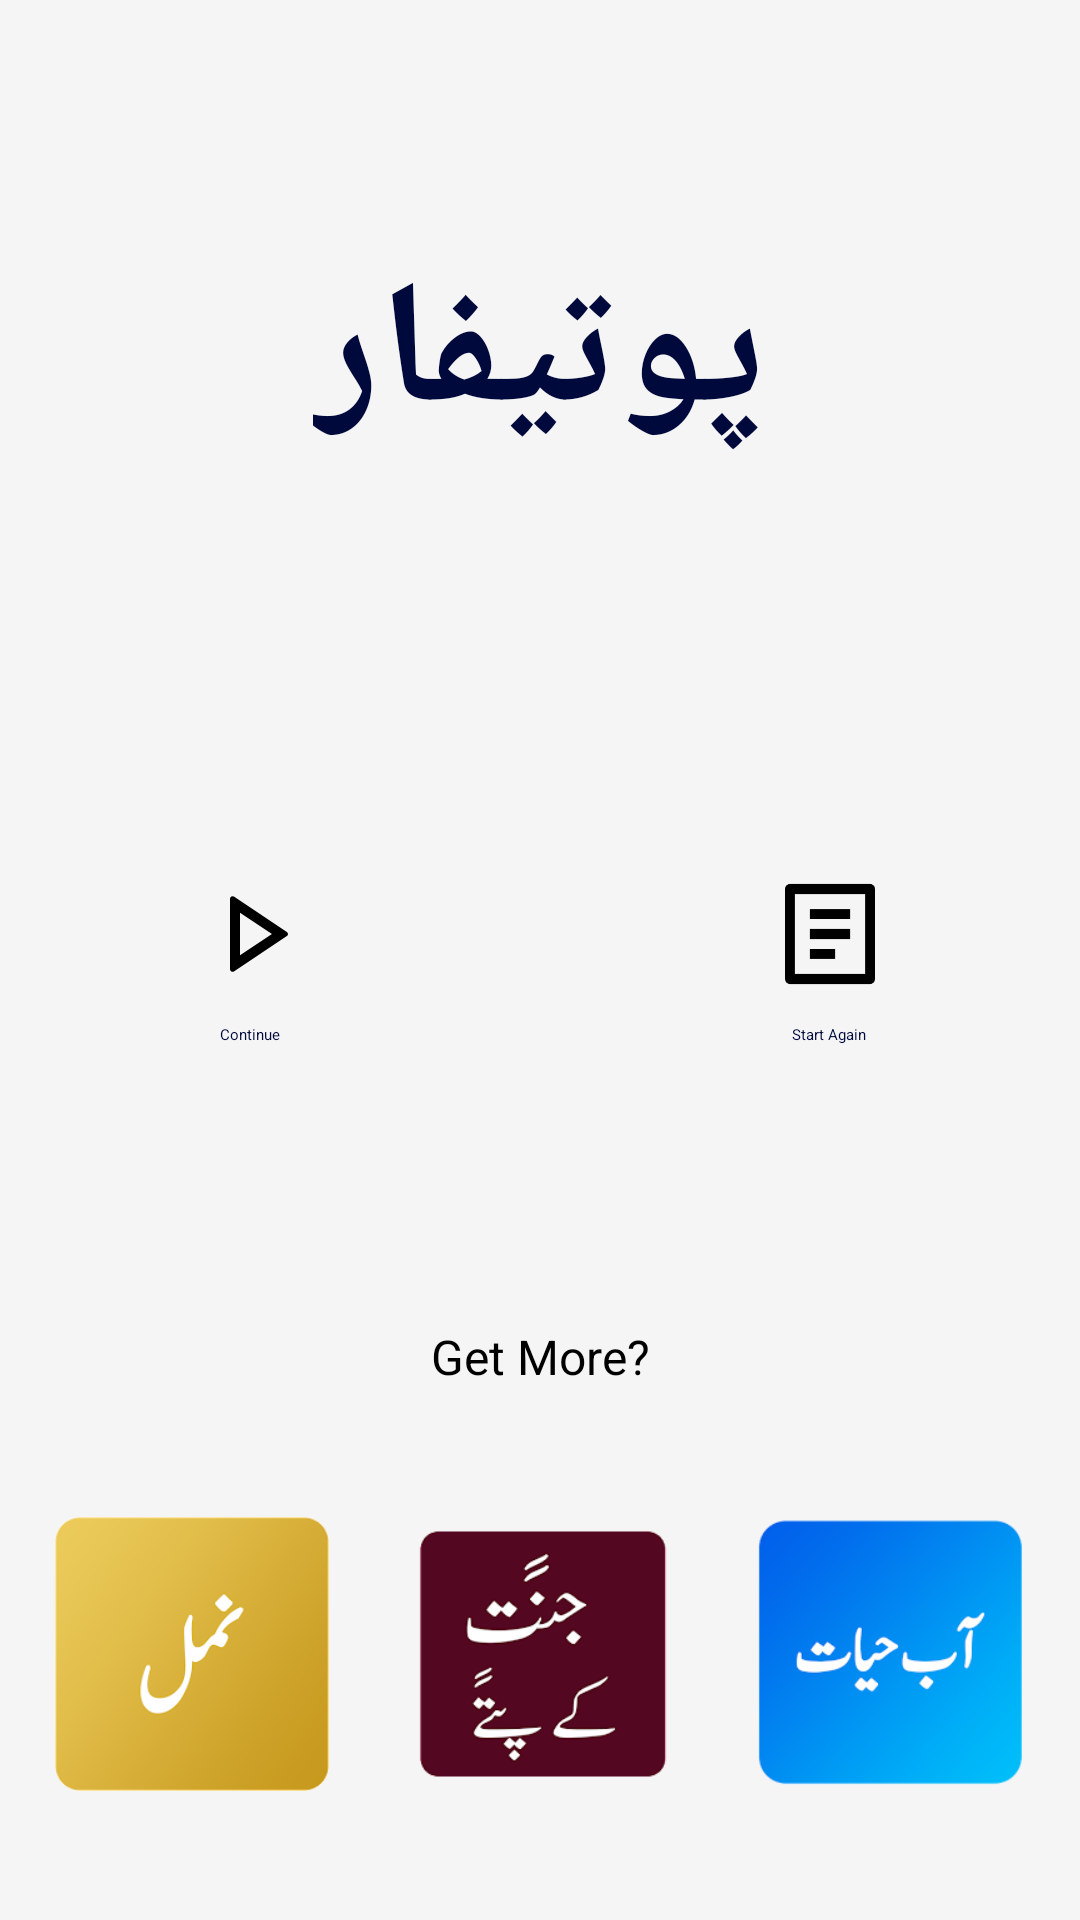

Screen size 1080x1920. Icon name, then its box in pixels as bbox(x1, y1, x2, y2):
page: bbox(785, 884, 875, 984)
play line: bbox(230, 896, 288, 972)
